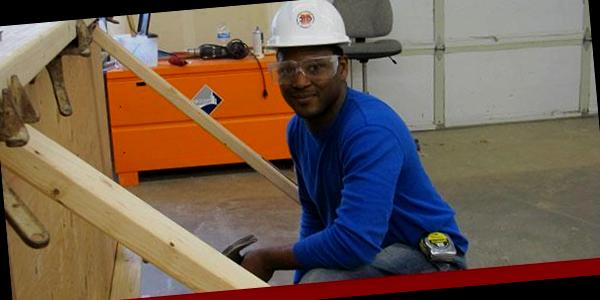helmet: (259, 0, 356, 62)
no_vest: (256, 83, 450, 271)
person: (244, 0, 459, 283)
